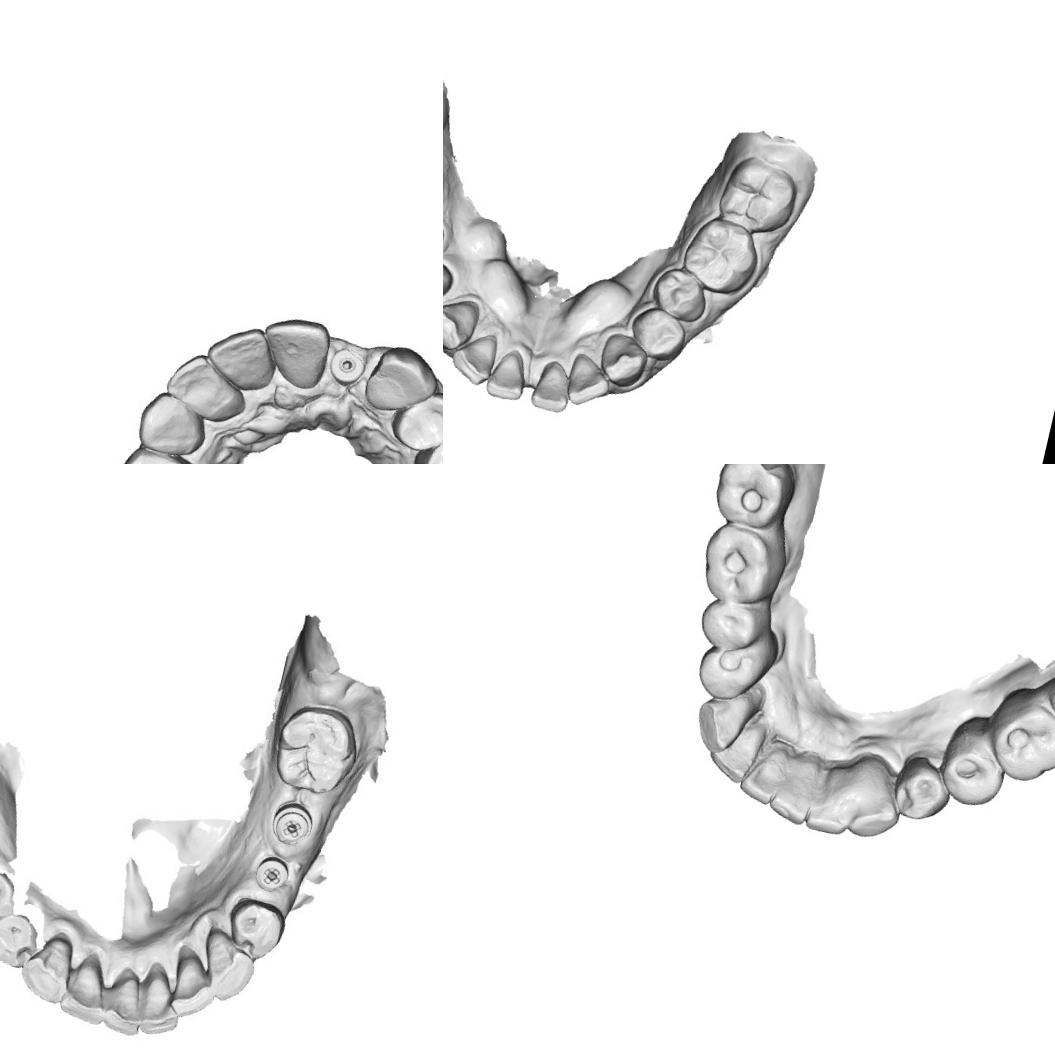canine: (361, 337, 443, 424), (131, 386, 219, 464), (190, 921, 264, 1008), (838, 758, 910, 847), (14, 929, 82, 1008), (688, 689, 754, 761), (593, 328, 653, 393), (443, 289, 483, 357)
implant: (324, 345, 368, 390)
implant_plus: (268, 796, 322, 853), (248, 848, 298, 900)
incisor: (164, 352, 252, 422), (258, 312, 332, 390), (199, 320, 279, 392), (703, 715, 768, 788), (55, 948, 115, 1026), (134, 962, 190, 1042), (763, 756, 823, 830), (800, 768, 858, 838), (444, 327, 504, 393), (733, 743, 791, 811), (166, 950, 220, 1022), (560, 348, 618, 414), (98, 966, 150, 1038), (481, 346, 534, 406), (526, 358, 576, 416)
molar: (265, 700, 364, 802), (694, 518, 786, 612), (712, 150, 805, 242), (978, 683, 1055, 791), (676, 212, 768, 302), (707, 464, 803, 535)
premolar: (933, 724, 1014, 814), (690, 634, 770, 708), (887, 748, 959, 828), (693, 589, 771, 657), (226, 894, 294, 965), (644, 260, 714, 327), (622, 301, 694, 366), (386, 383, 443, 459), (0, 911, 45, 971), (406, 420, 443, 464), (0, 861, 21, 932), (119, 444, 192, 464), (443, 248, 458, 313)
